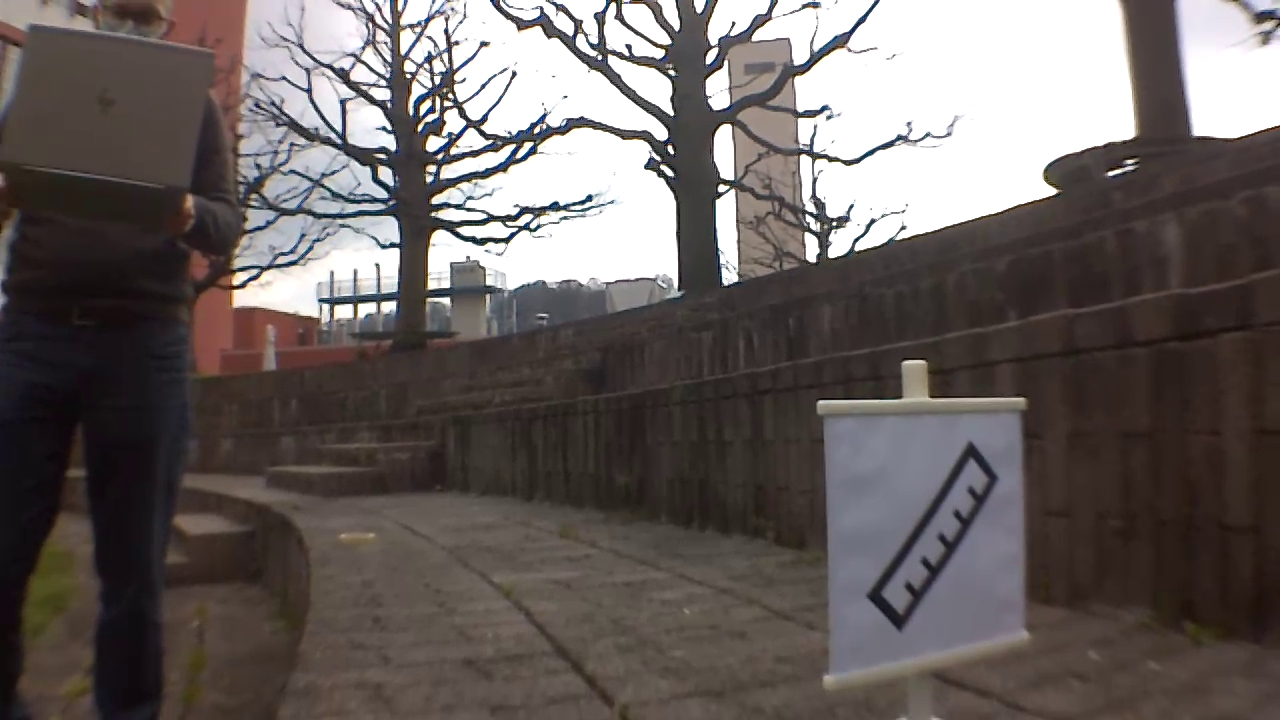ruler: (864, 435, 1003, 637)
